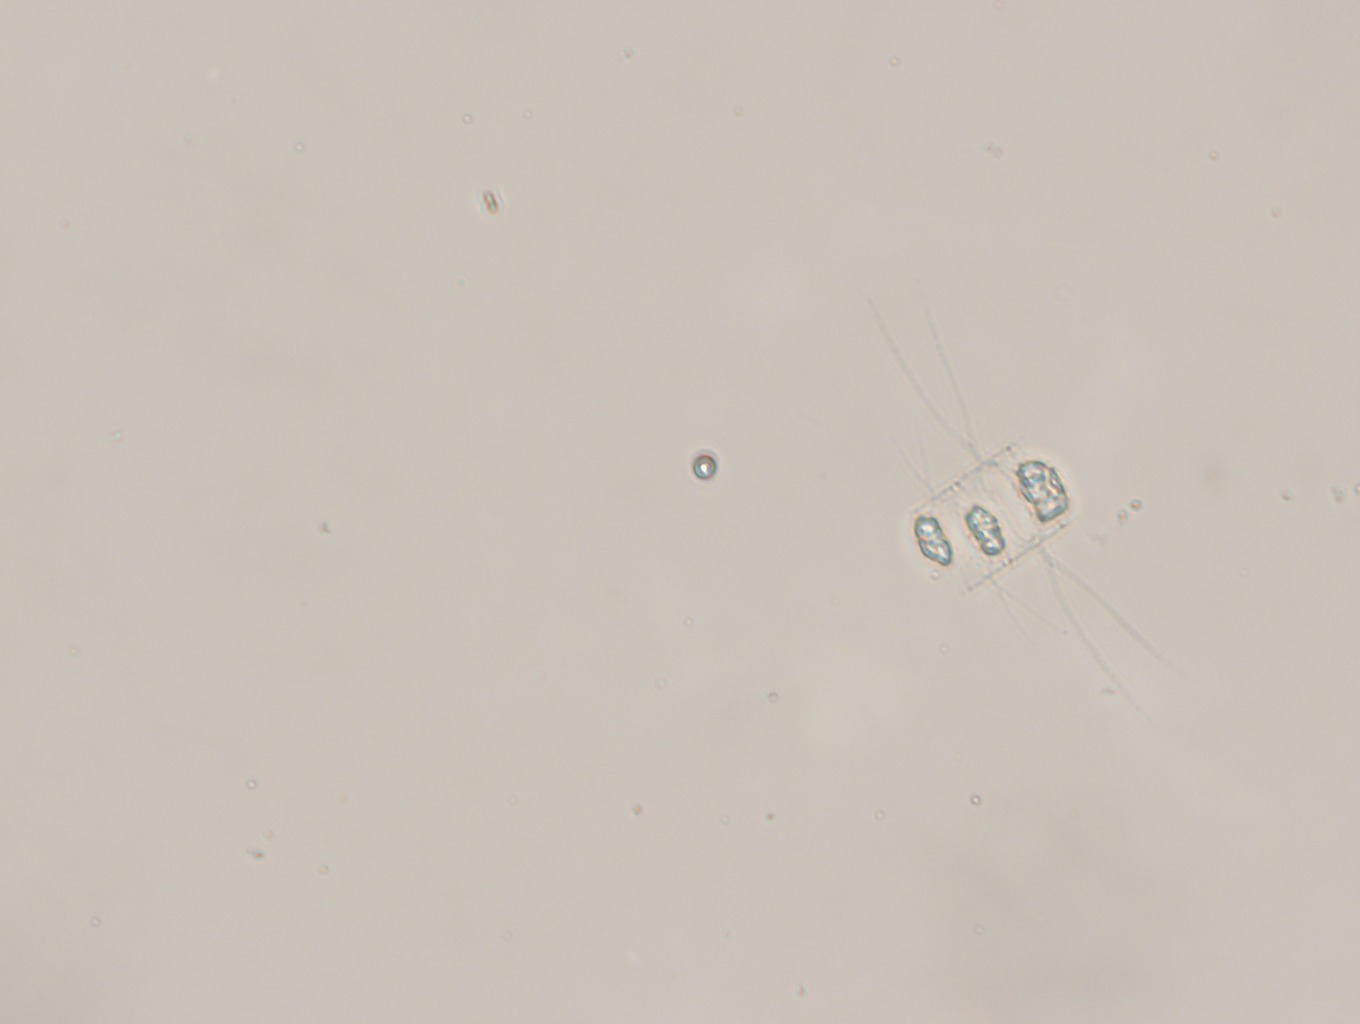chaetoceros: (851, 278, 1172, 707)
